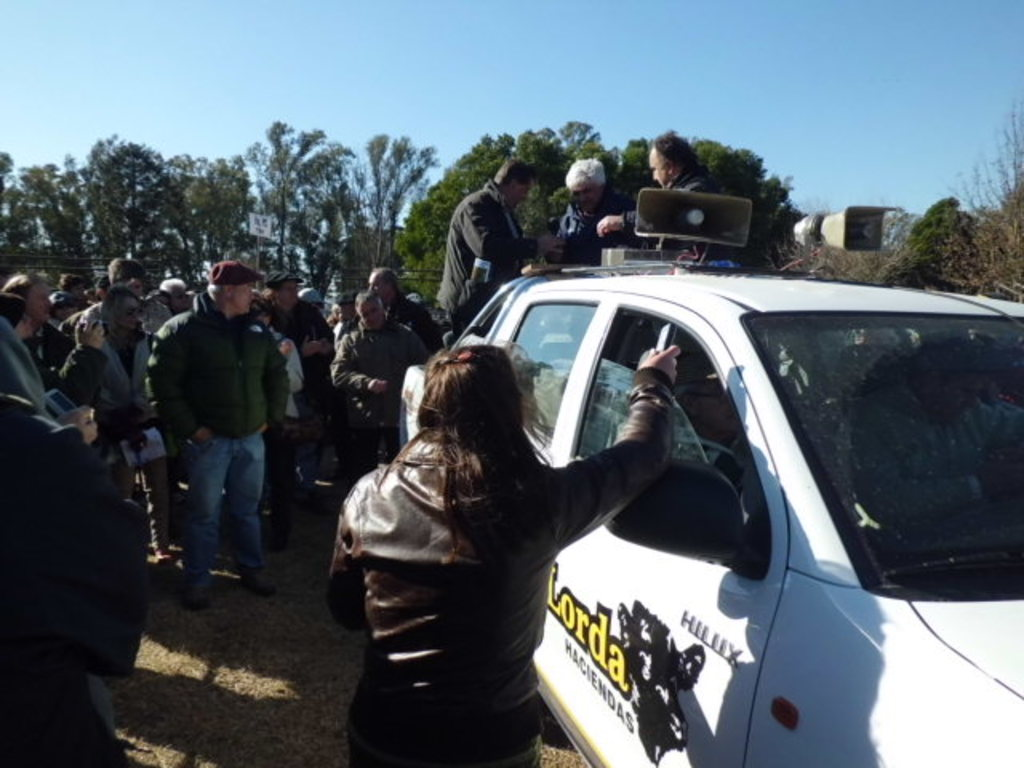Car: (400, 177, 1022, 766)
